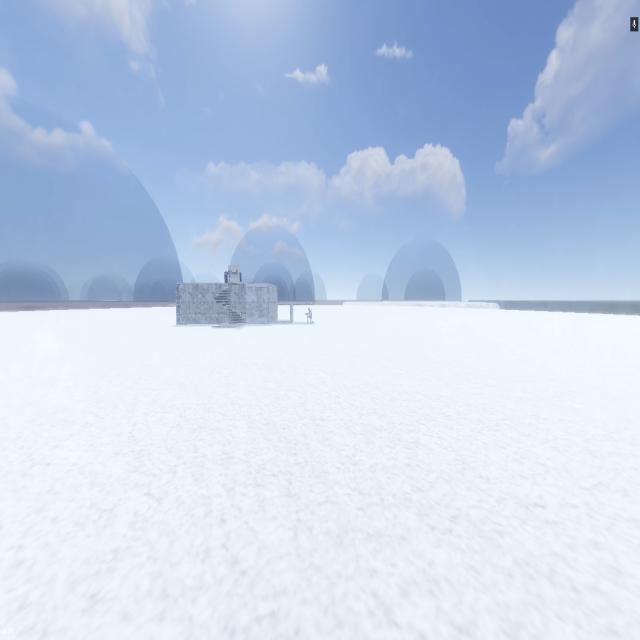Player: (304, 306, 314, 324)
